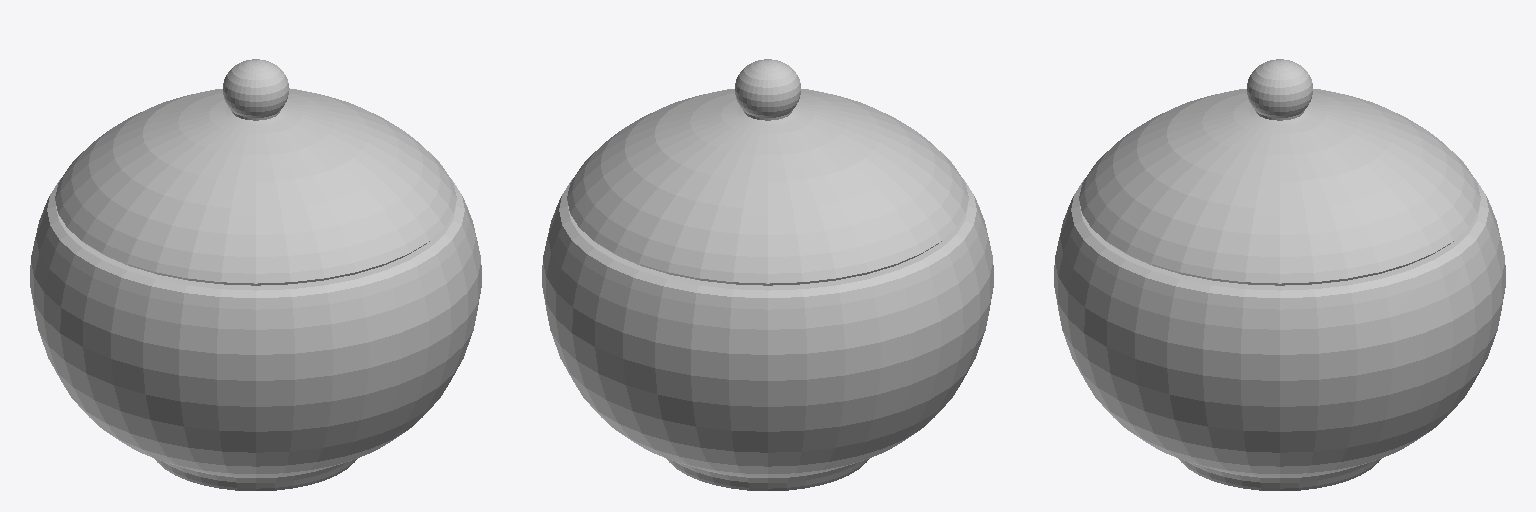
The model's file is vase.obj.
3 views of the same model, side by side, from view 1: azimuth 30°, elevation 25°; view 2: azimuth 150°, elevation 25°; view 3: azimuth 270°, elevation 25° (orthographic).
Size of the model in its own units: 39.77 by 37.55 by 39.77.